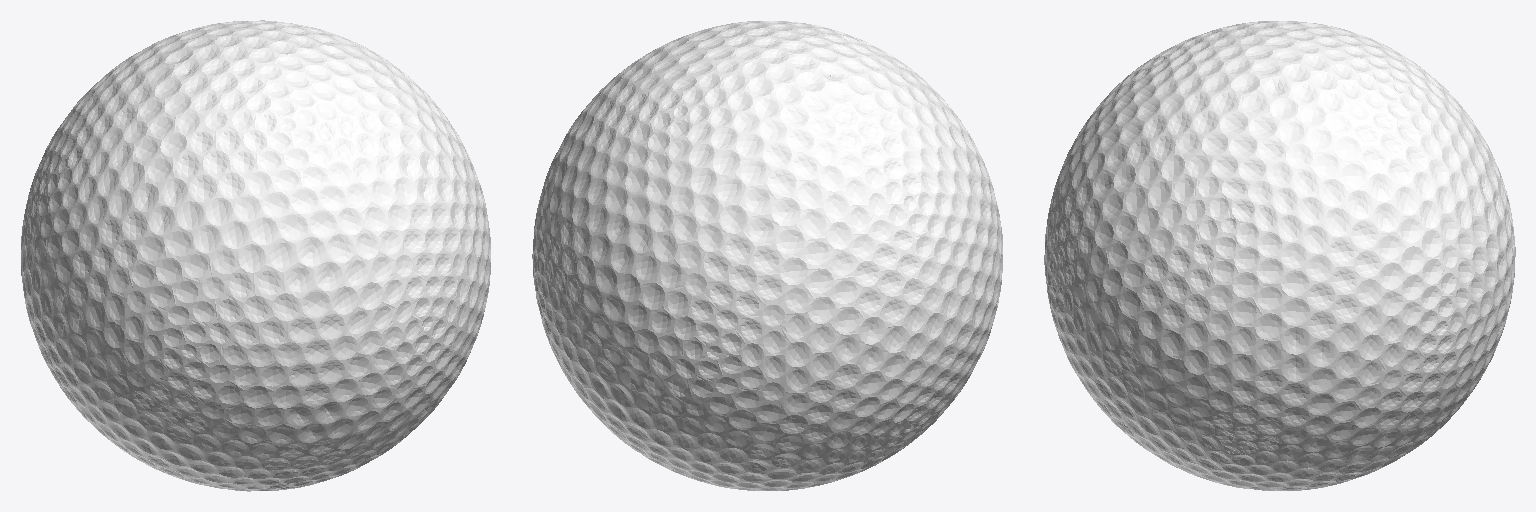
robot.urdf — golf_ball:
<?xml version="1.0"?>
<robot name="golf_ball">
    <link name="golf_ball">
        <visual>
            <geometry>
                <mesh filename="../mesh/TVB_mesh/ball_task_golf.obj"/>                                   
            </geometry>
            <material name="white">
                <color rgba="1 1 1 1"/>
            </material>
        </visual>
        <collision>
            <geometry>
                <mesh filename="../mesh/TVB_mesh/ball_task_golf.obj"/> 
            </geometry>
            <sdf resolution="256"/>
        </collision>
    </link>
</robot>

--- Render facts (derived) ---
3 views of the same robot in one strip: view 1: azimuth 30°, elevation 25°; view 2: azimuth 150°, elevation 25°; view 3: azimuth 270°, elevation 25° (orthographic).
Model golf_ball with 1 links and 0 joints (none), rooted at golf_ball, posed every joint at zero.
Links seen in each view (by area): view 1: golf_ball; view 2: golf_ball; view 3: golf_ball.
Link boxes in pixels (box(x1,y1,x2,y2)): golf_ball: box(21, 20, 490, 491); golf_ball: box(532, 21, 1002, 490); golf_ball: box(1044, 21, 1515, 490).
Size in the robot's own frame: 0.0388 by 0.0388 by 0.0388 metres.
Meshes: 1 distinct files referenced, 1 mesh visuals loaded (1 OBJ).
